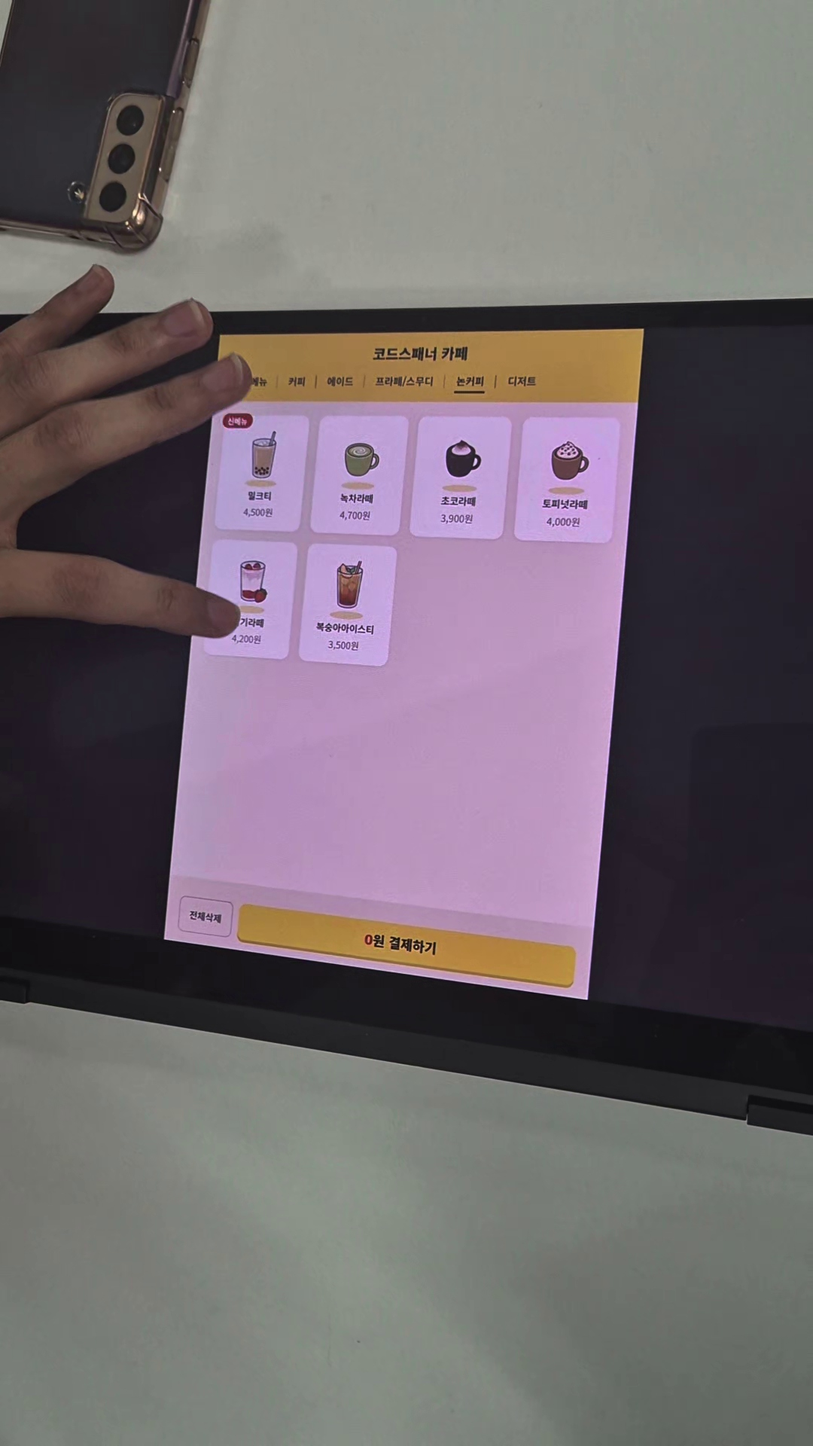action_button: (236, 903, 577, 988), (178, 896, 233, 936)
category_tab: (372, 376, 433, 387), (454, 375, 486, 388), (240, 376, 269, 388), (507, 376, 538, 387), (325, 376, 354, 387), (285, 376, 308, 389)
menu_back: (514, 417, 621, 545), (409, 414, 511, 540), (297, 542, 398, 667), (201, 536, 299, 661), (311, 415, 407, 537), (213, 411, 308, 533)
menu_name: (315, 621, 375, 634), (540, 498, 589, 510), (440, 494, 477, 507), (339, 492, 375, 504), (230, 616, 265, 628), (247, 491, 273, 502)
menu_price: (545, 515, 581, 528), (327, 639, 361, 652), (439, 513, 475, 525), (229, 633, 263, 645), (339, 510, 372, 522), (241, 507, 274, 519)
